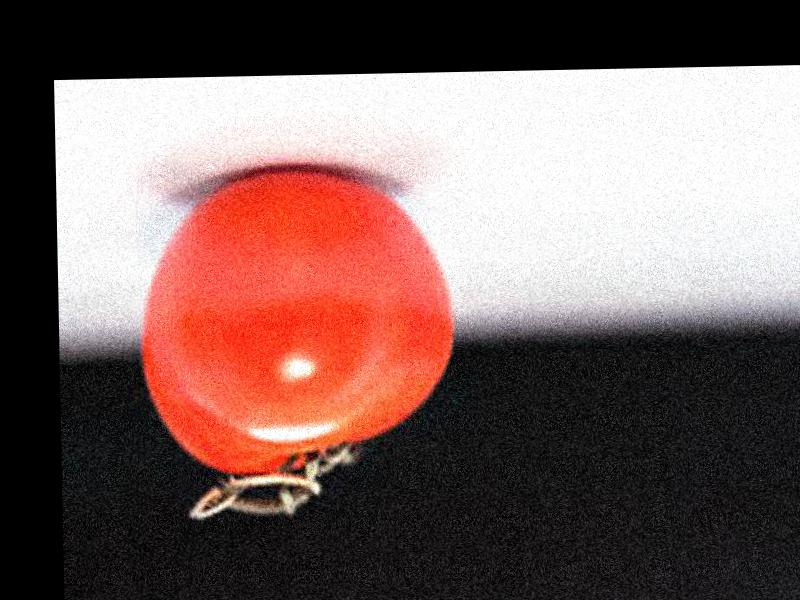Tomato: (137, 166, 458, 477)
